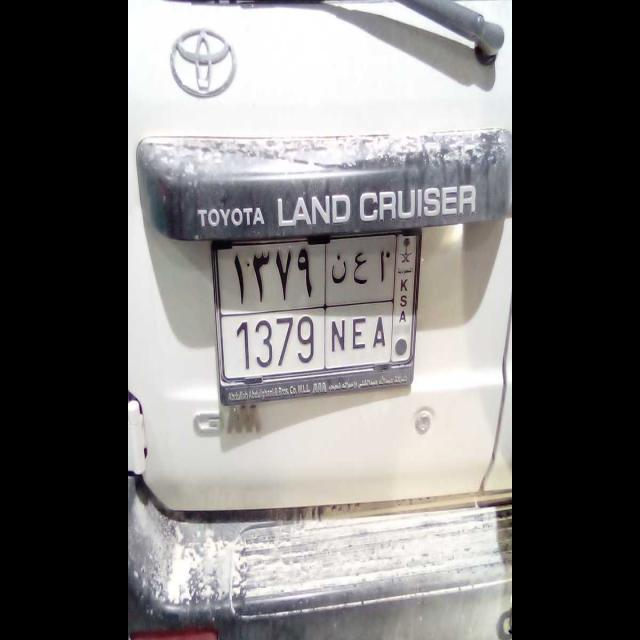license_plate: (220, 312, 392, 370)
